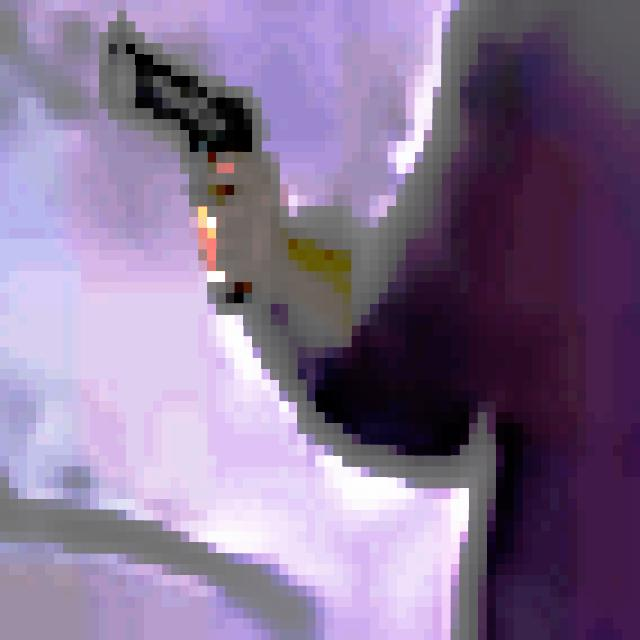arms: (0, 0, 333, 336)
